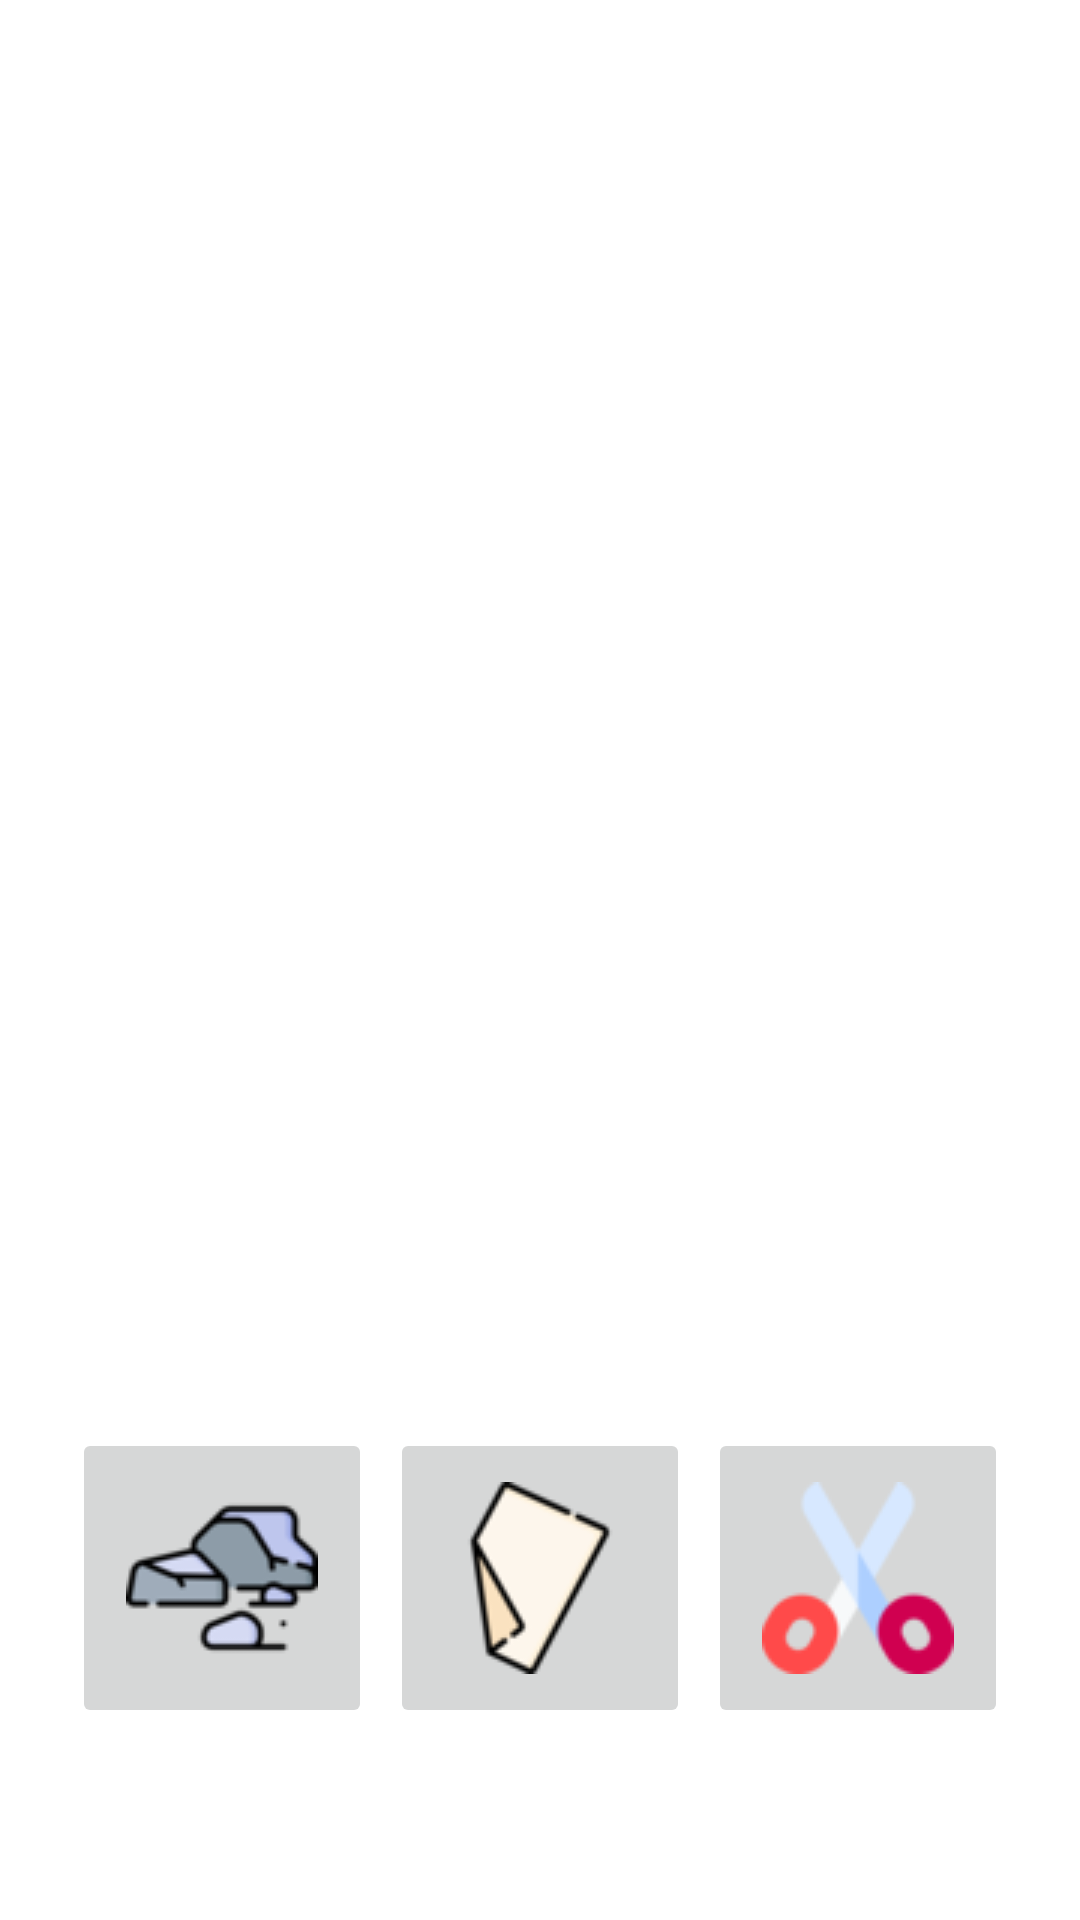

Point at icon controls on the screen. Image size 1080px×1920px, points as point (x, y).
paper: point (540, 1578)
scissors: point (858, 1578)
stone: point (222, 1578)
